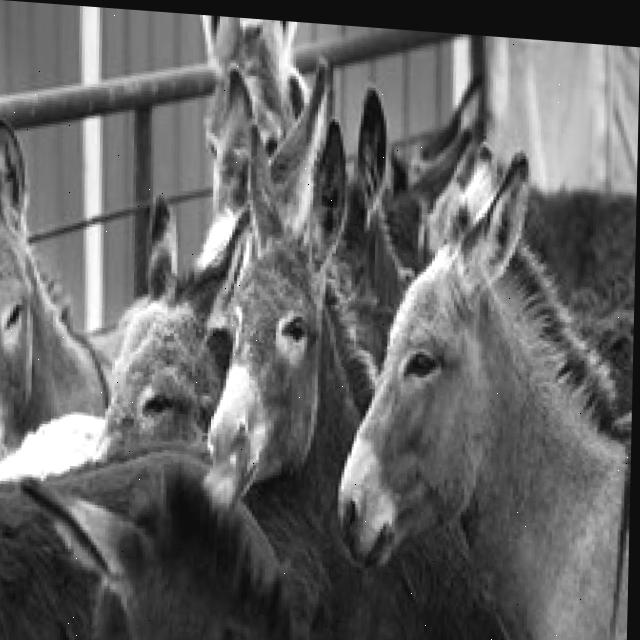Donkey: (329, 128, 635, 640), (201, 44, 371, 513), (0, 417, 325, 640), (0, 111, 129, 461), (93, 187, 250, 470), (189, 14, 309, 280), (320, 82, 413, 416), (346, 80, 476, 284)
